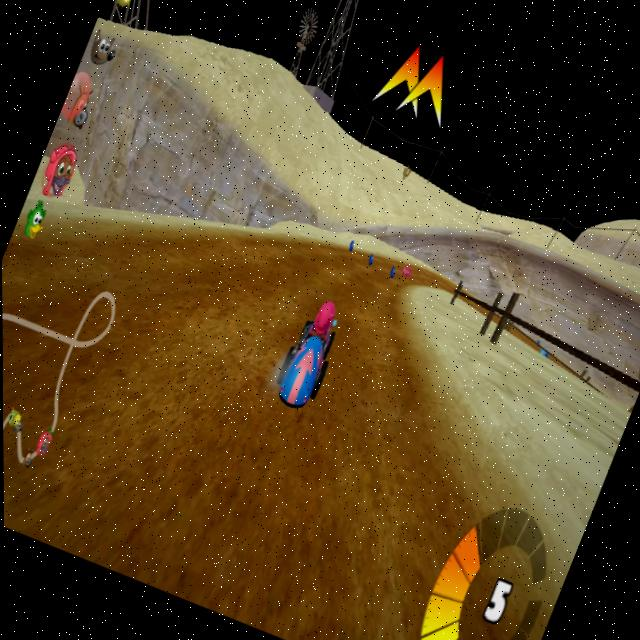nitro: (362, 248, 379, 268), (383, 264, 399, 282), (345, 235, 359, 252)
player_kart: (264, 290, 351, 420)
